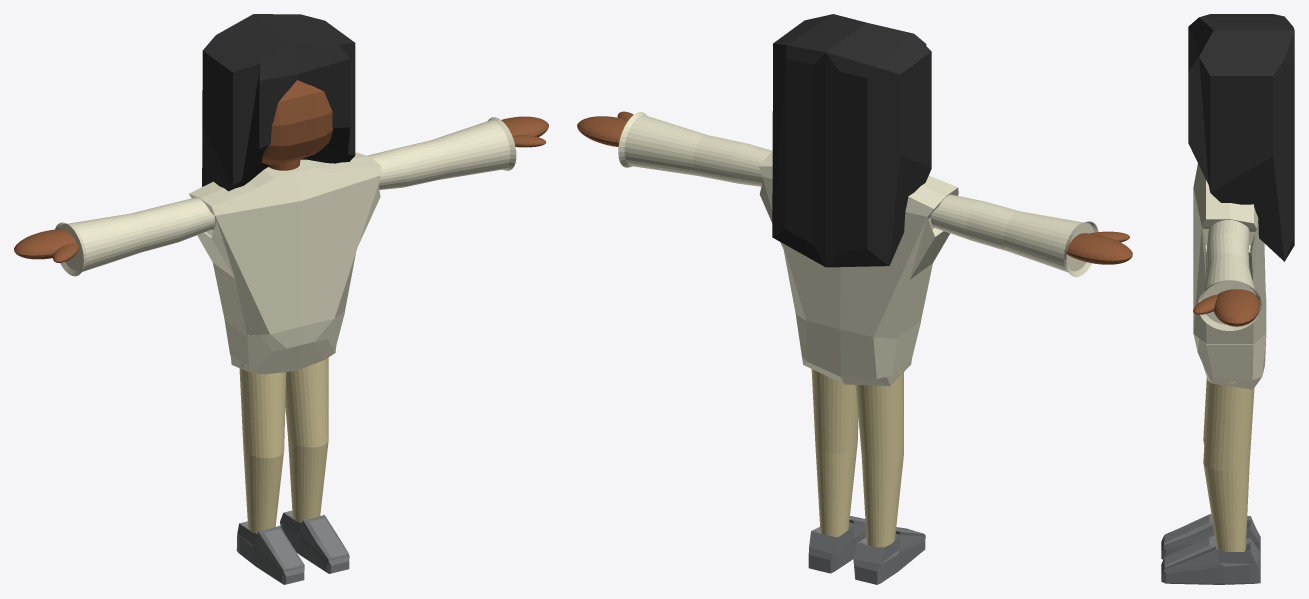
File: La Trombonette_Character 7.fbx
The picture shows the model from 3 angles, left to right: view 1: azimuth 30°, elevation 25°; view 2: azimuth 150°, elevation 25°; view 3: azimuth 270°, elevation 25°; orthographic projection. The views are drawn at different scales.
Visible parts, largest first — view 1: Torse, Cheveux.001, Jambe, Head, Sphere; view 2: Cheveux.001, Torse, Jambe, Sphere; view 3: Cheveux.001, Jambe, Torse, Sphere.
Part boxes in pixels (<box>): Torse: <box>55,117,516,374</box>; Cheveux.001: <box>202,14,355,191</box>; Jambe: <box>236,357,349,584</box>; Head: <box>261,80,332,165</box>; Sphere: <box>14,116,548,262</box>; Cheveux.001: <box>772,14,931,267</box>; Torse: <box>618,112,1098,386</box>; Jambe: <box>808,369,925,584</box>; Sphere: <box>577,111,1132,264</box>; Cheveux.001: <box>1188,14,1294,261</box>; Jambe: <box>1161,377,1260,584</box>; Torse: <box>1193,163,1266,389</box>; Sphere: <box>1193,289,1259,326</box>.
Size of the model in its own units: 1212 by 1128 by 254.
